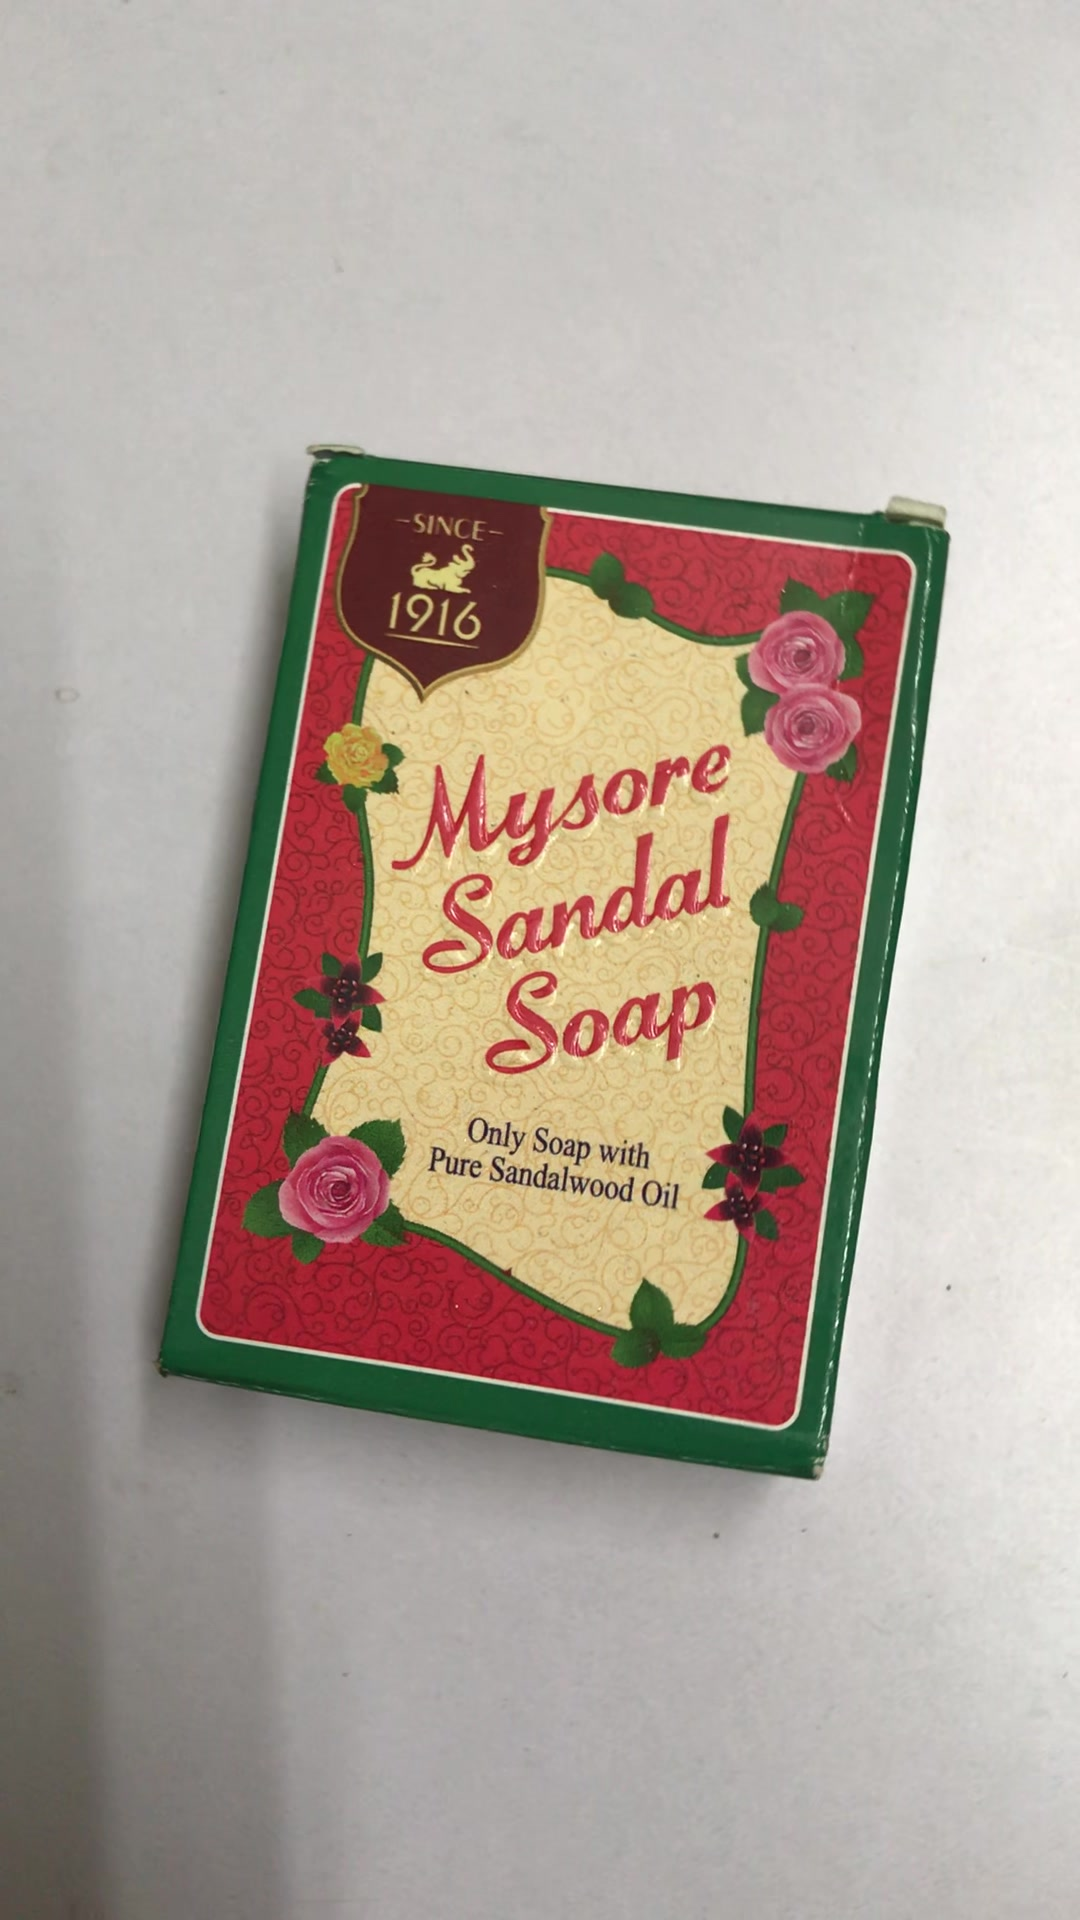mysore sandal soap: (149, 450, 953, 1481)
